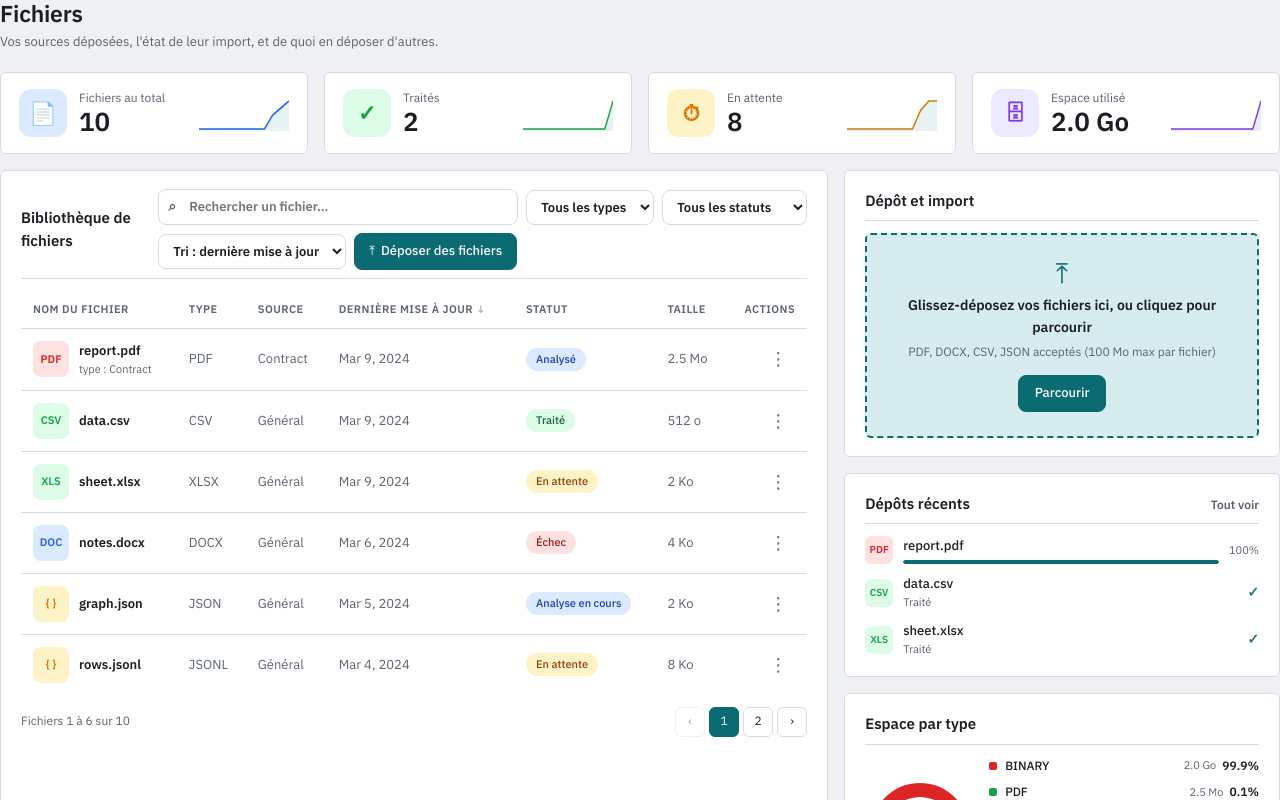
Test: Files page — delete and actions › surfaces a delete failure
The image size is (1280, 800).
Expected: the table is shown, [21,290,807,695]
Click the button named "Actions" at coordinates (778, 359), box [761,346,795,372]
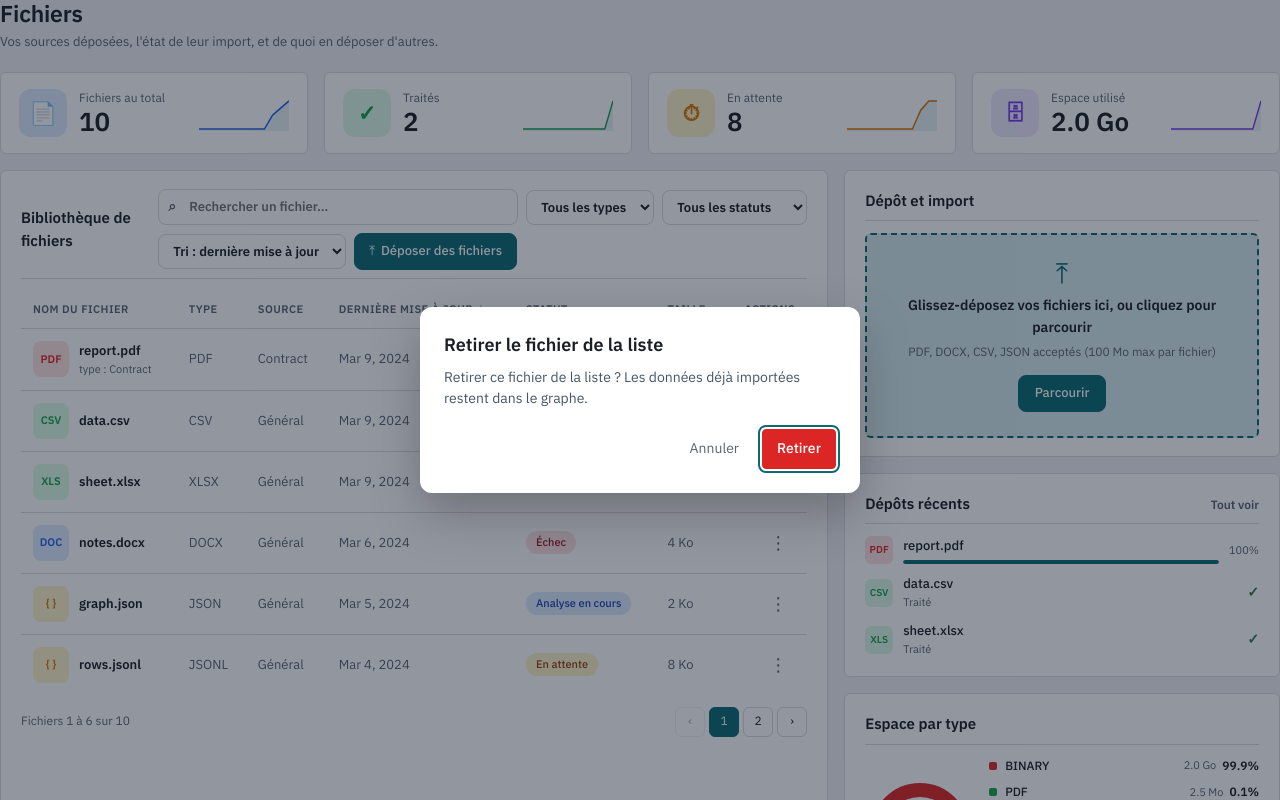
Click the button "Retirer" at coordinates (799, 449), box [762,429,836,469]
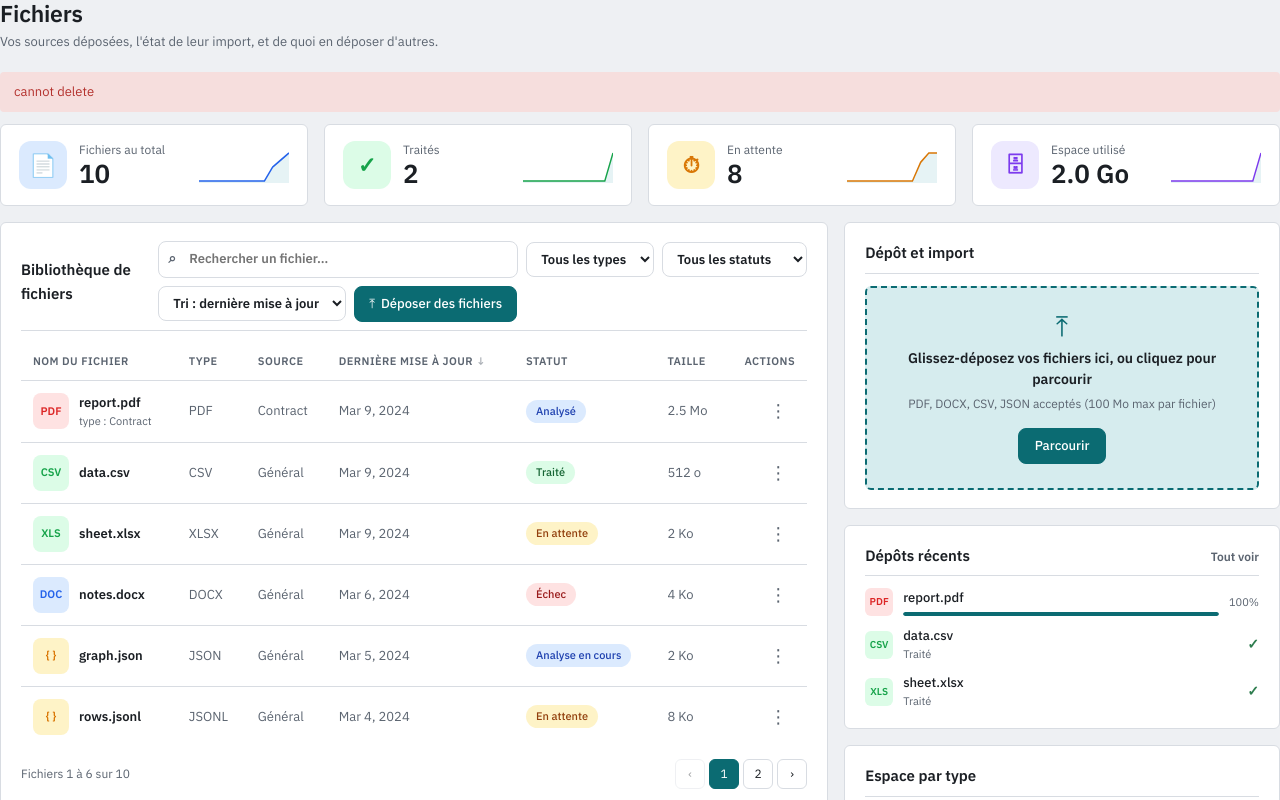
Expected: the text "cannot delete" is shown, [0,72,1279,112]
